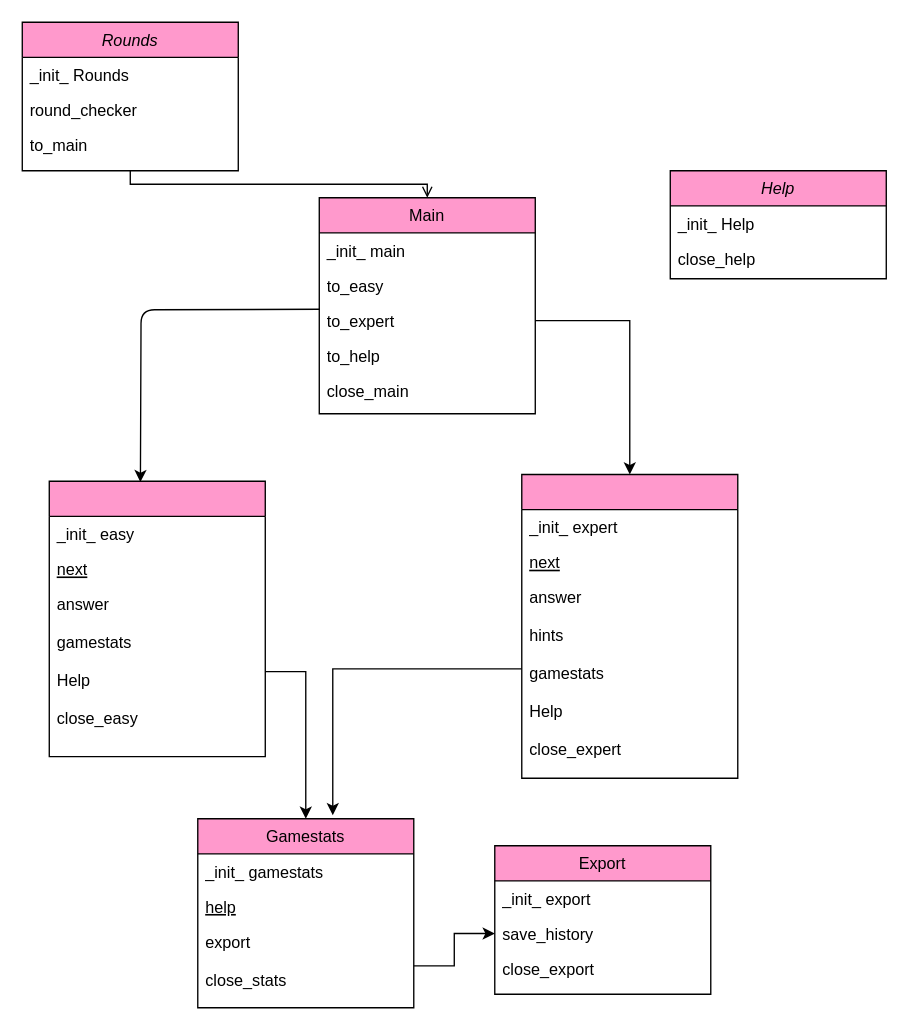
The diagram is 909 pixels wide and 1030 high, and some of its shapes have lost their labels. The shapes that lost their labels are listed below. From the top down, each one's box as (x1, y1, x2, y2) in pixels, then its label:
(48, 480, 265, 757): Easy Mode
(520, 473, 738, 778): Expert Mode
